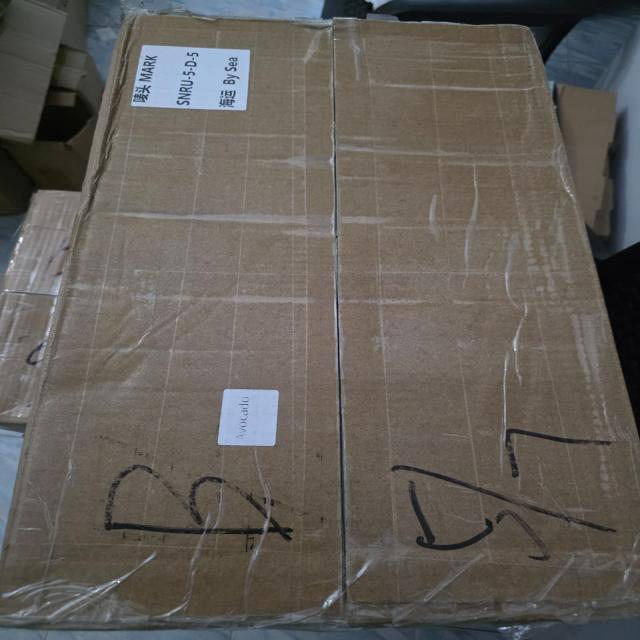carton_box: (3, 4, 640, 640)
export_mark_label: (130, 38, 261, 123)
package_damage: (323, 353, 360, 553), (105, 20, 133, 123)
